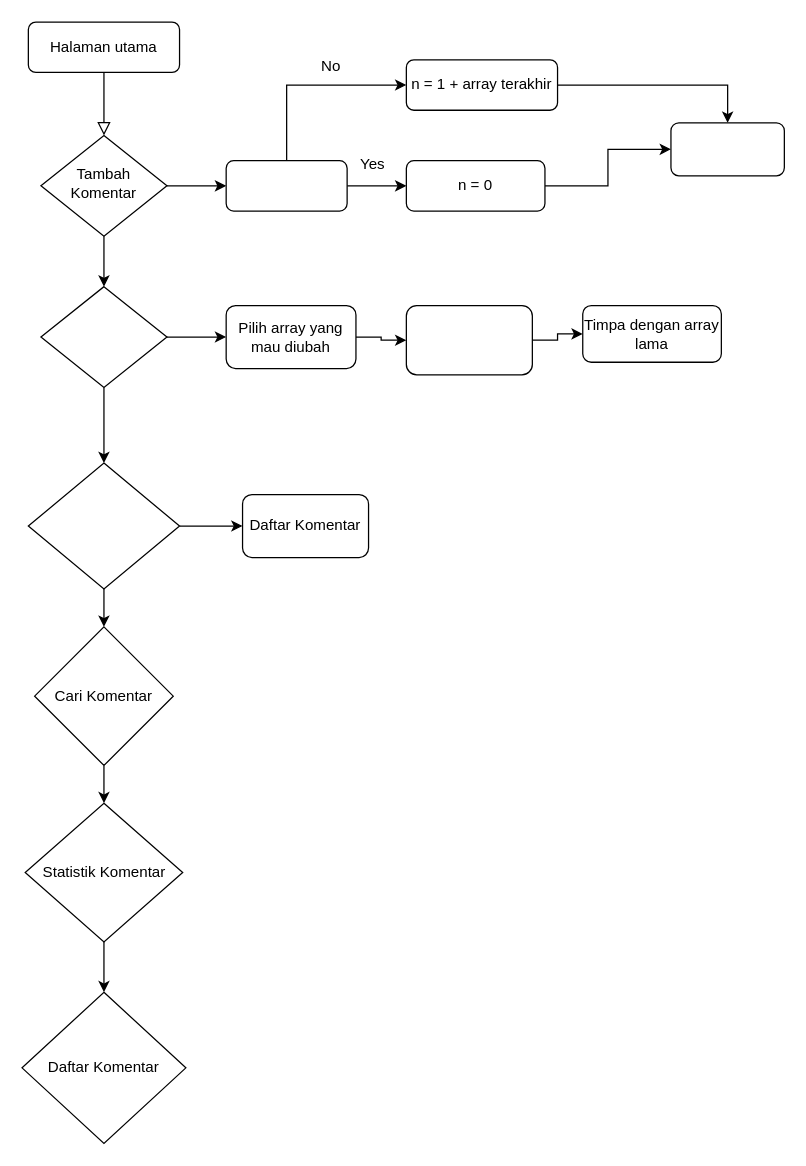
Image size: 806x1166. Some labels were removed from this diagram. The centre of each missing label's shape, as x and y in pixels:
Cek array yang kosong: [286,185]
Hapus Komentar: [103,525]
Input: [727,149]
input untuk array tersebut: [468,339]
Ubah Komentar: [103,336]
